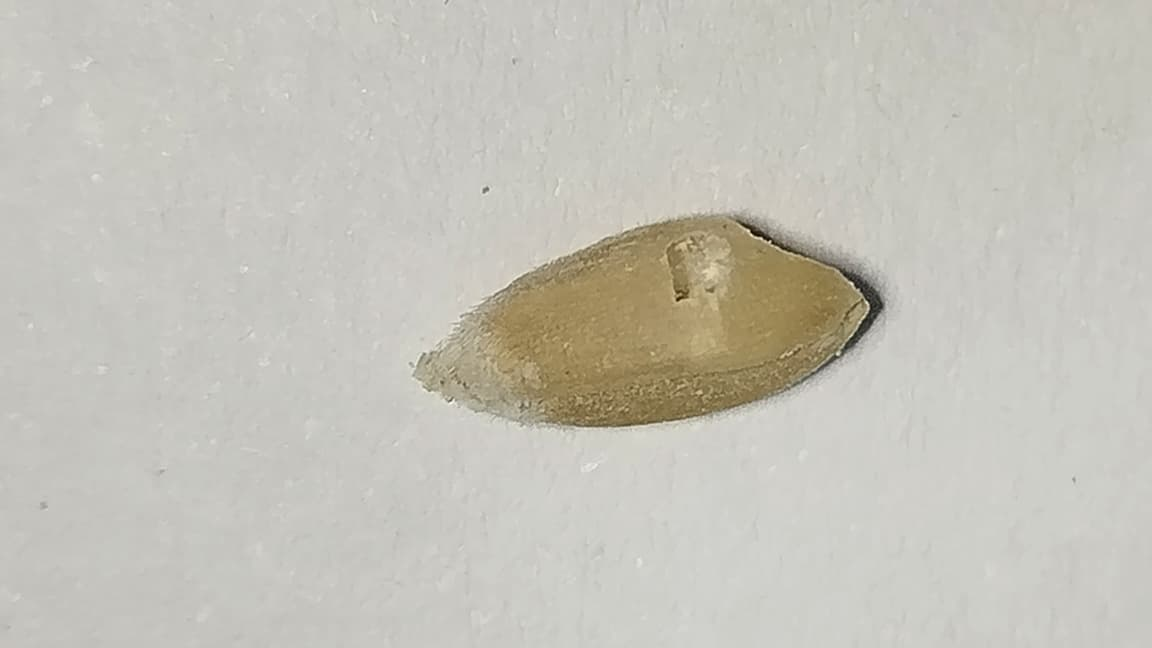damage: (415, 216, 882, 424)
insectdamage: (714, 212, 870, 301), (649, 229, 744, 312)
